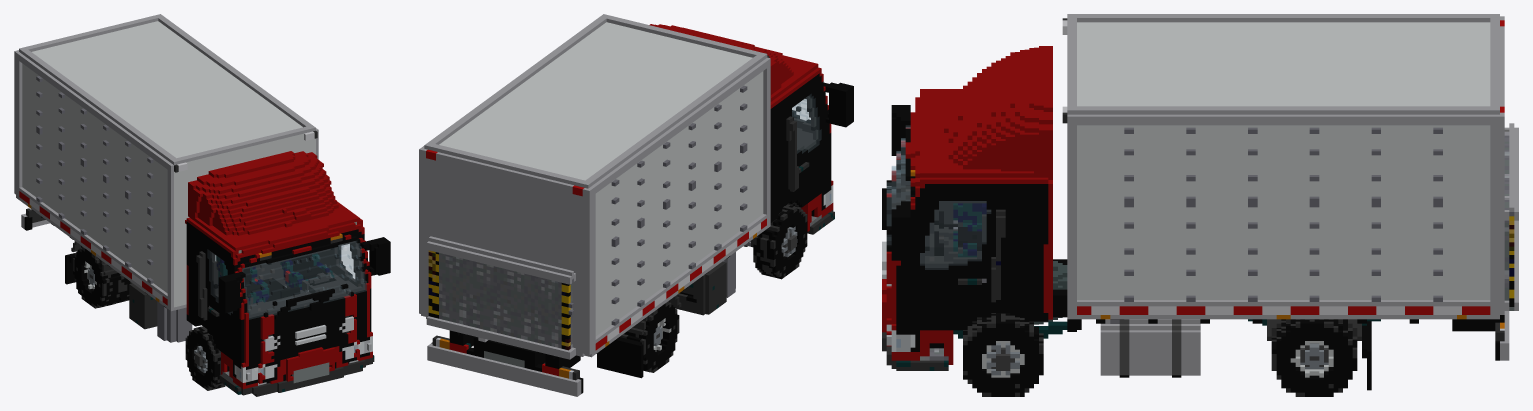
Rendered from box-truck-voxel.glb.
3 views of the same model, side by side, from view 1: azimuth 30°, elevation 25°; view 2: azimuth 150°, elevation 25°; view 3: azimuth 270°, elevation 25° (orthographic). The views are drawn at different scales.
Visible parts, largest first — view 1: Voxel_body, Wheel_2_Right, Wheel_1_Right; view 2: Voxel_body, Roller_Door, Wheel_1_Right, Wheel_2_Right; view 3: Voxel_body, Wheel_2_Left, Wheel_1_Left.
Part boxes in pixels (x1,y1,x2,y2): Voxel_body: (14,14,390,396); Wheel_2_Right: (73,246,130,308); Wheel_1_Right: (185,326,225,390); Voxel_body: (419,14,853,396); Roller_Door: (429,162,579,352); Wheel_1_Right: (753,204,807,279); Wheel_2_Right: (620,300,679,372); Voxel_body: (882,14,1518,390); Wheel_2_Left: (1271,319,1357,396); Wheel_1_Left: (963,313,1043,396).
Bounding box in the file's own units: 2.8 × 3.35 × 6.7.
